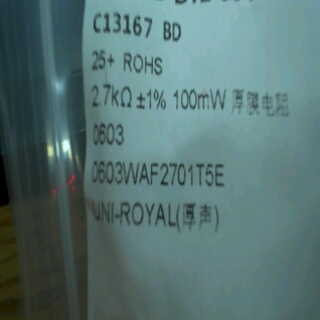2.7kR: (91, 80, 133, 114)
